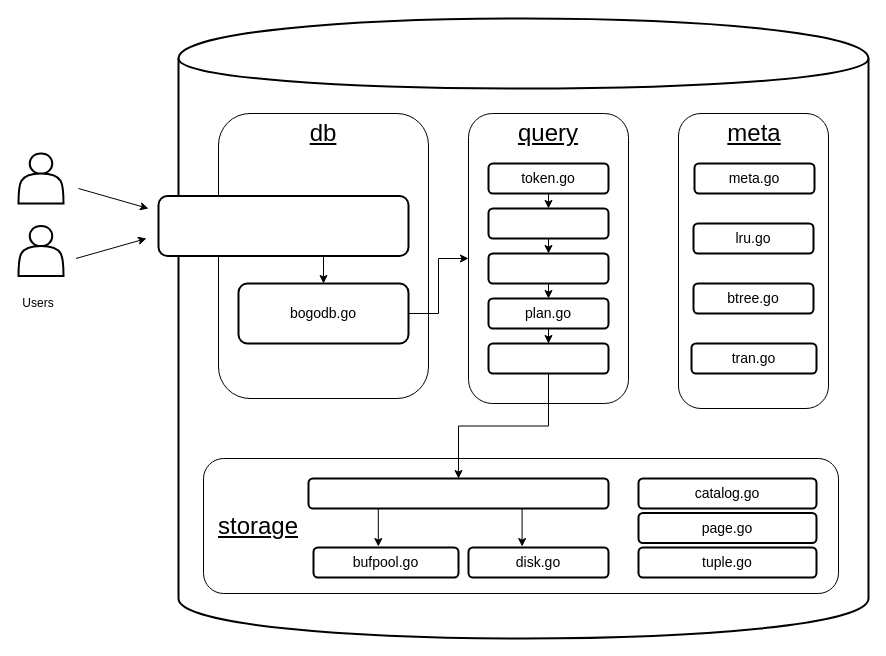
Image size: 886x656. Some labels were removed from this diagram. Each missing label, with the centre of its shape:
"analyze.go" belongs at (548,268).
"executor.go" belongs at (548,358).
"http.go" belongs at (283,225).
"parse.go" belongs at (548,223).
"storage.go" belongs at (458,493).
